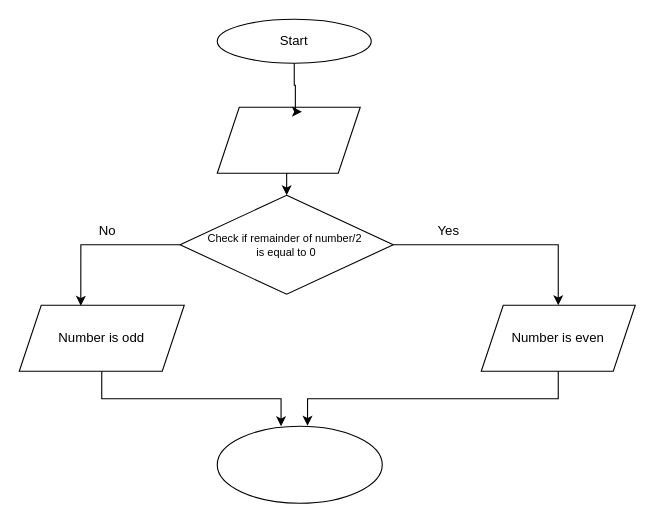
Some shapes in this 655 by 523 pixel diagram are drawn without their labels. Here are the shapes that lost their labels. From the top down, the centre of each, then its label:
At pixel 288 139: "Input number".
At pixel 299 464: "End".
